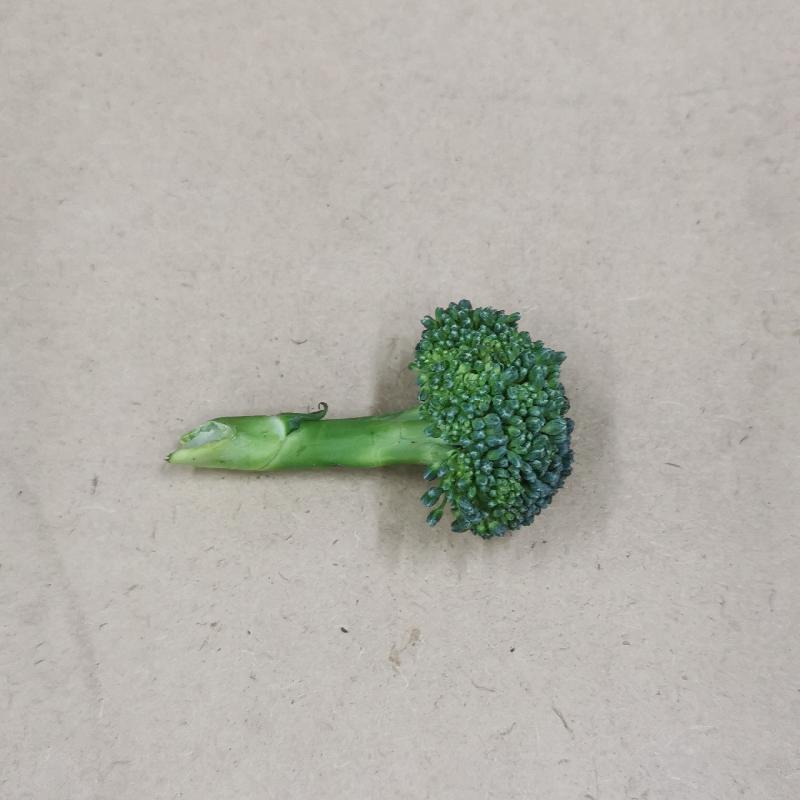broccoli: (158, 296, 575, 549)
